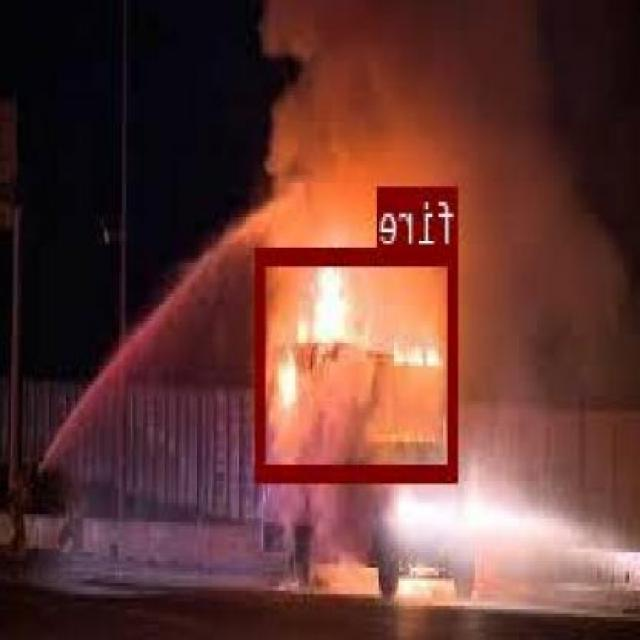fire: (258, 243, 460, 480)
